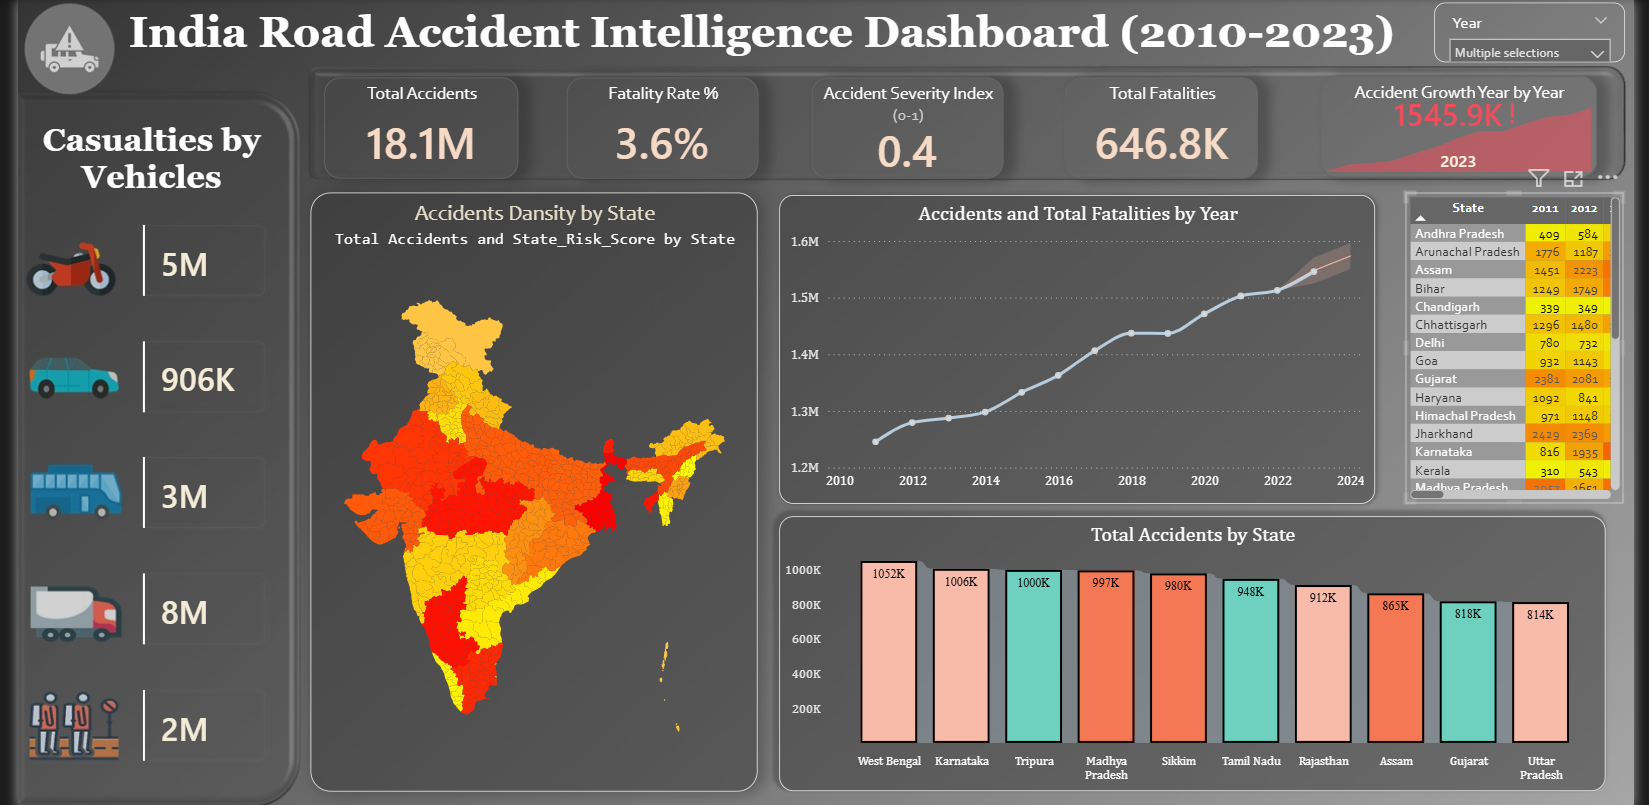

The page's visual inventory and layout, read from the dashboard file:
{"tool":"powerbi","page":{"name":"National Overview","canvas":[1600,800],"ordinal":0},"visuals":[{"type":"textbox","box":[94.5,2.9,1316.9,68.3],"z":1000},{"type":"card","title":"Total Accidents","fields":{"Values":["Sum(India_Accidents_Data_2010_2023.Total_Accidents)"]},"box":[303.5,76.2,192,100.2],"z":2000},{"type":"card","title":"Fatality Rate %","fields":{"Values":["Accidents.Fatality Rate %"]},"box":[543,76.7,189.2,100.2],"z":3000},{"type":"card","title":"Accident Severity Index","fields":{"Values":["Avg(India_Accidents_Data_2010_2023.Severity_Index)"]},"box":[785.4,76.7,189.2,100.2],"z":4000},{"type":"card","title":"Total Fatalities","fields":{"Values":["Sum(India_Accidents_Data_2010_2023.Persons_Killed)"]},"box":[1036.5,76.7,190.5,100.2],"z":6000},{"type":"lineChart","fields":{"Category":["India_Accidents_Data_2010_2023.Year"],"Y":["Sum(India_Accidents_Data_2010_2023.Total_Accidents)"]},"box":[753.3,193,590,305.5],"z":7000},{"type":"columnChart","title":"Total Accidents by State","fields":{"Category":["India_Accidents_Data_2010_2023.State"],"Y":["Sum(India_Accidents_Data_2010_2023.Total_Accidents)"]},"box":[753.3,510.8,817.6,272.1],"z":8000},{"type":"shapeMap","title":"Accidents Dansity by State","fields":{"Category":["India_Accidents_Data_2010_2023.State"],"Value":["Sum(India_Accidents_Data_2010_2023.Total_Accidents)"]},"box":[289.4,190.5,442.8,592.5],"z":9000},{"type":"kpi","title":"Accident Growth Year by Year","fields":{"TrendLine":["India_Accidents_Data_2010_2023.Year"],"Indicator":["Sum(India_Accidents_Data_2010_2023.Total_Accidents)"],"Goal":["Min(India_Accidents_Data_2010_2023.Total_Accidents)"]},"box":[1288.8,75.4,273.3,100.2],"z":11000},{"type":"slicer","title":"Year","fields":{"Values":["India_Accidents_Data_2010_2023.Year"]},"box":[1401.2,2.9,189,59.6],"z":12000},{"type":"textbox","box":[0,114.8,264.5,100.3],"z":13000},{"type":"cardVisual","fields":{"Data":["Sum(Accidents.Car_Involved)","Sum(Accidents.Bus_Involved)","Sum(Accidents.Truck_Involved)","Sum(Accidents.TwoWheeler_Involved)","Sum(Accidents.Pedestrian_Involved)"]},"box":[94.5,193.3,180.2,590.1],"z":14000},{"type":"pivotTable","fields":{"Rows":["Accidents.State"],"Columns":["Accidents.Year"],"Values":["Sum(Accidents.Persons_Killed)"]},"box":[1372.5,190.5,217.3,308.2],"z":15000}]}

Visuals, with their boxes in screenshot pixels (x1, y1, x2, y2), scaled from the page's 1600x800 canvas onto the 1649x805 screenshot:
textbox: <box>97,3,1455,72</box>
"Total Accidents" card: <box>313,77,511,178</box>
"Fatality Rate %" card: <box>560,77,755,178</box>
"Accident Severity Index" card: <box>809,77,1004,178</box>
"Total Fatalities" card: <box>1068,77,1265,178</box>
lineChart - India_Accidents_Data_2010_2023.Year x Sum(India_Accidents_Data_2010_2023.Total_Accidents): <box>776,194,1384,502</box>
"Total Accidents by State" columnChart: <box>776,514,1619,788</box>
"Accidents Dansity by State" shapeMap: <box>298,192,755,788</box>
"Accident Growth Year by Year" kpi: <box>1328,76,1610,177</box>
"Year" slicer: <box>1444,3,1639,63</box>
textbox: <box>0,116,273,216</box>
cardVisual - Sum(Accidents.Car_Involved) x Sum(Accidents.Bus_Involved): <box>97,195,283,788</box>
pivotTable - Accidents.State x Accidents.Year: <box>1415,192,1638,502</box>
